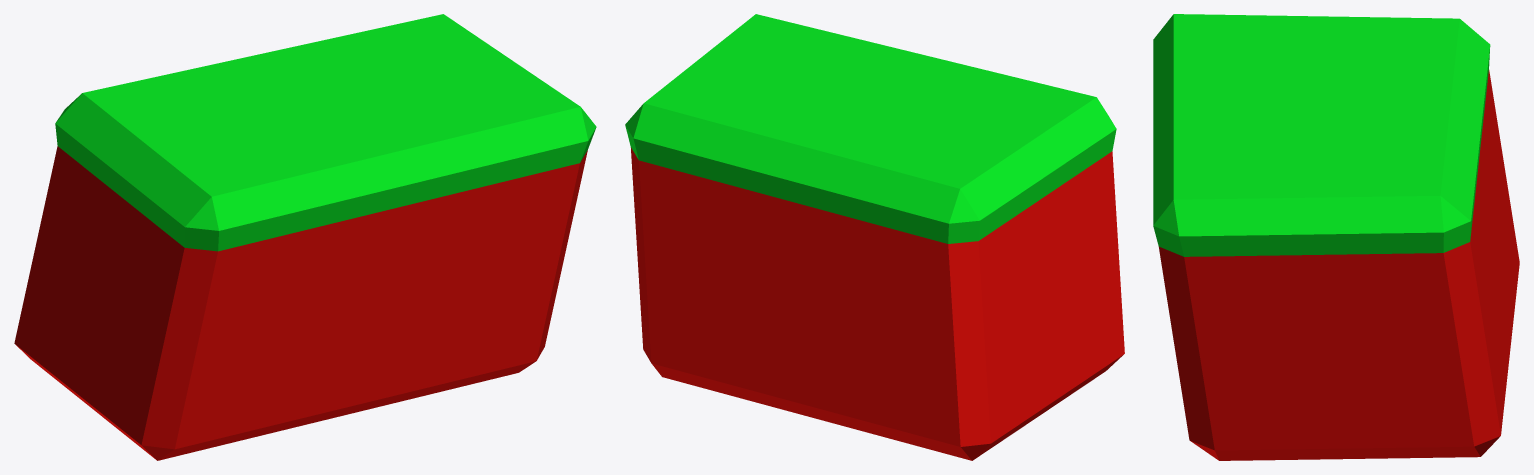
File: block.fbx
The picture shows the model from 3 angles, left to right: view 1: azimuth 30°, elevation 25°; view 2: azimuth 150°, elevation 25°; view 3: azimuth 270°, elevation 25°; orthographic projection. The views are drawn at different scales.
Visible parts, largest first — view 1: Cube; view 2: Cube; view 3: Cube.
Boxes of the visible parts, box(x1,y1,x2,y2) form: Cube: box(14, 14, 596, 460); Cube: box(625, 14, 1124, 460); Cube: box(1153, 14, 1519, 460).
Size of the model in its own units: 4.88 by 3.43 by 2.9.
